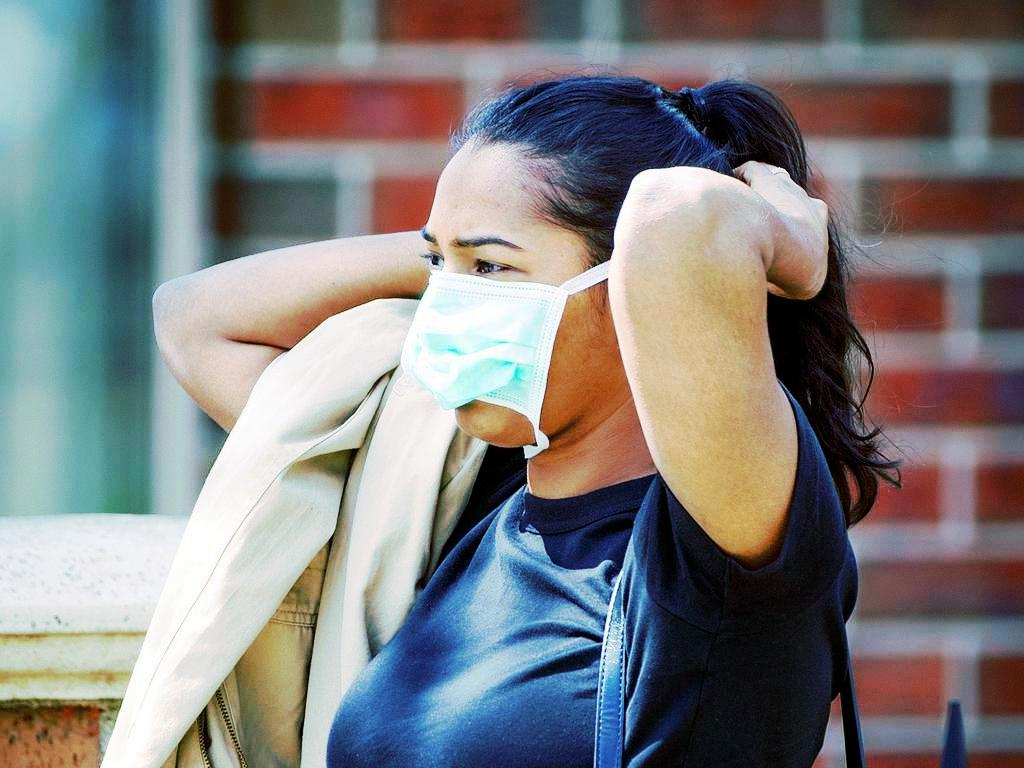mask_weared_incorrect: (396, 75, 731, 465)
